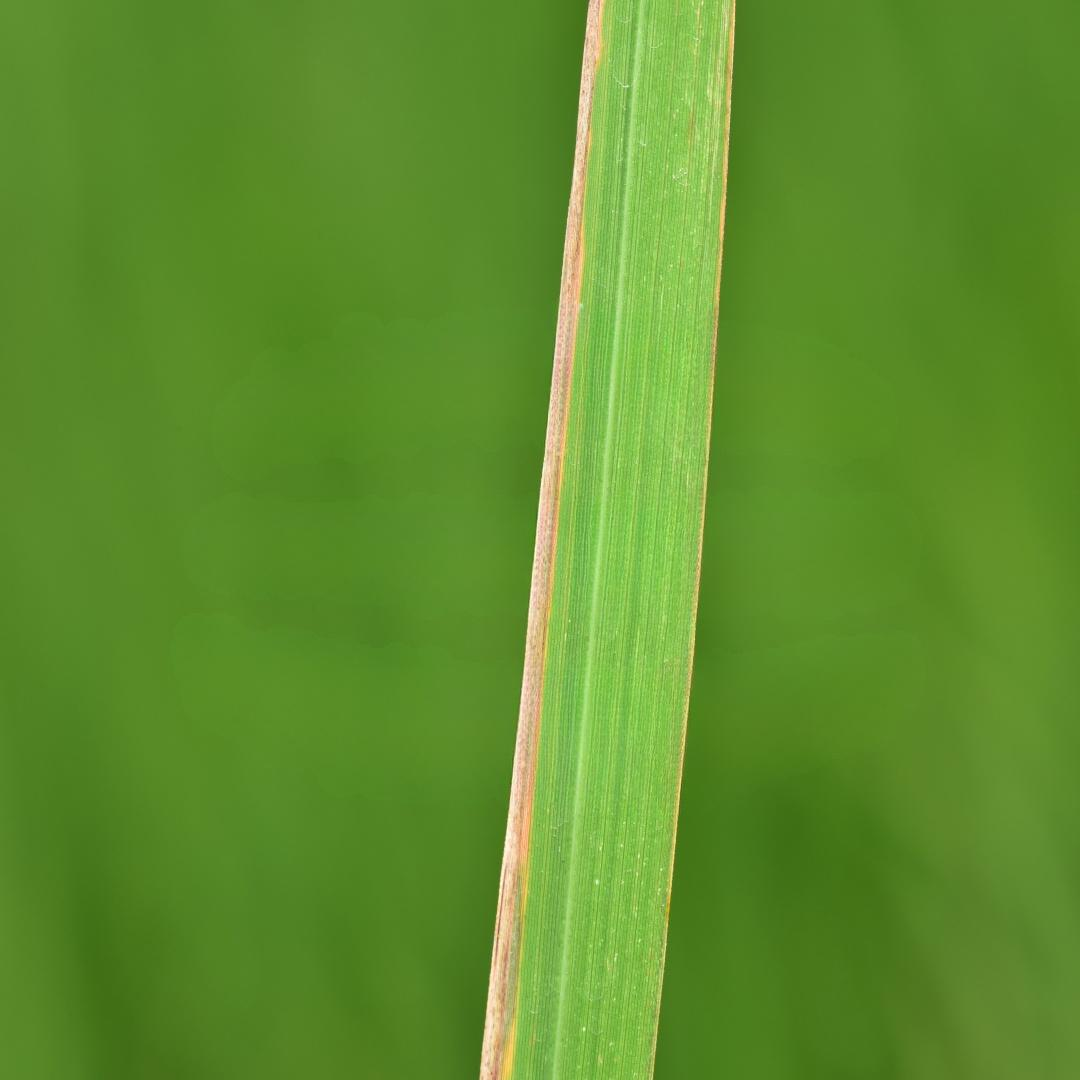BLB: (481, 0, 606, 1079)
LEAF: (480, 0, 736, 1079)
